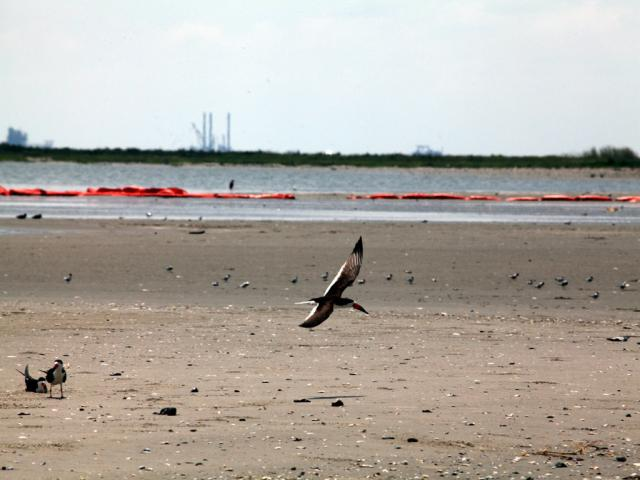Bird: (292, 234, 370, 331), (35, 353, 68, 406), (14, 364, 48, 402), (160, 264, 180, 277), (235, 278, 251, 294), (13, 210, 34, 222), (616, 279, 633, 292), (506, 269, 520, 282), (62, 270, 74, 285), (286, 273, 301, 284), (383, 273, 398, 284), (319, 270, 332, 282), (586, 290, 601, 300), (356, 275, 367, 288), (528, 282, 548, 289), (32, 210, 44, 221), (208, 280, 220, 290), (555, 275, 568, 284), (228, 177, 236, 191), (556, 279, 569, 287), (406, 276, 415, 287), (146, 206, 153, 220), (220, 274, 232, 282), (586, 275, 596, 284), (402, 270, 416, 274), (526, 279, 536, 284), (163, 216, 168, 224)
